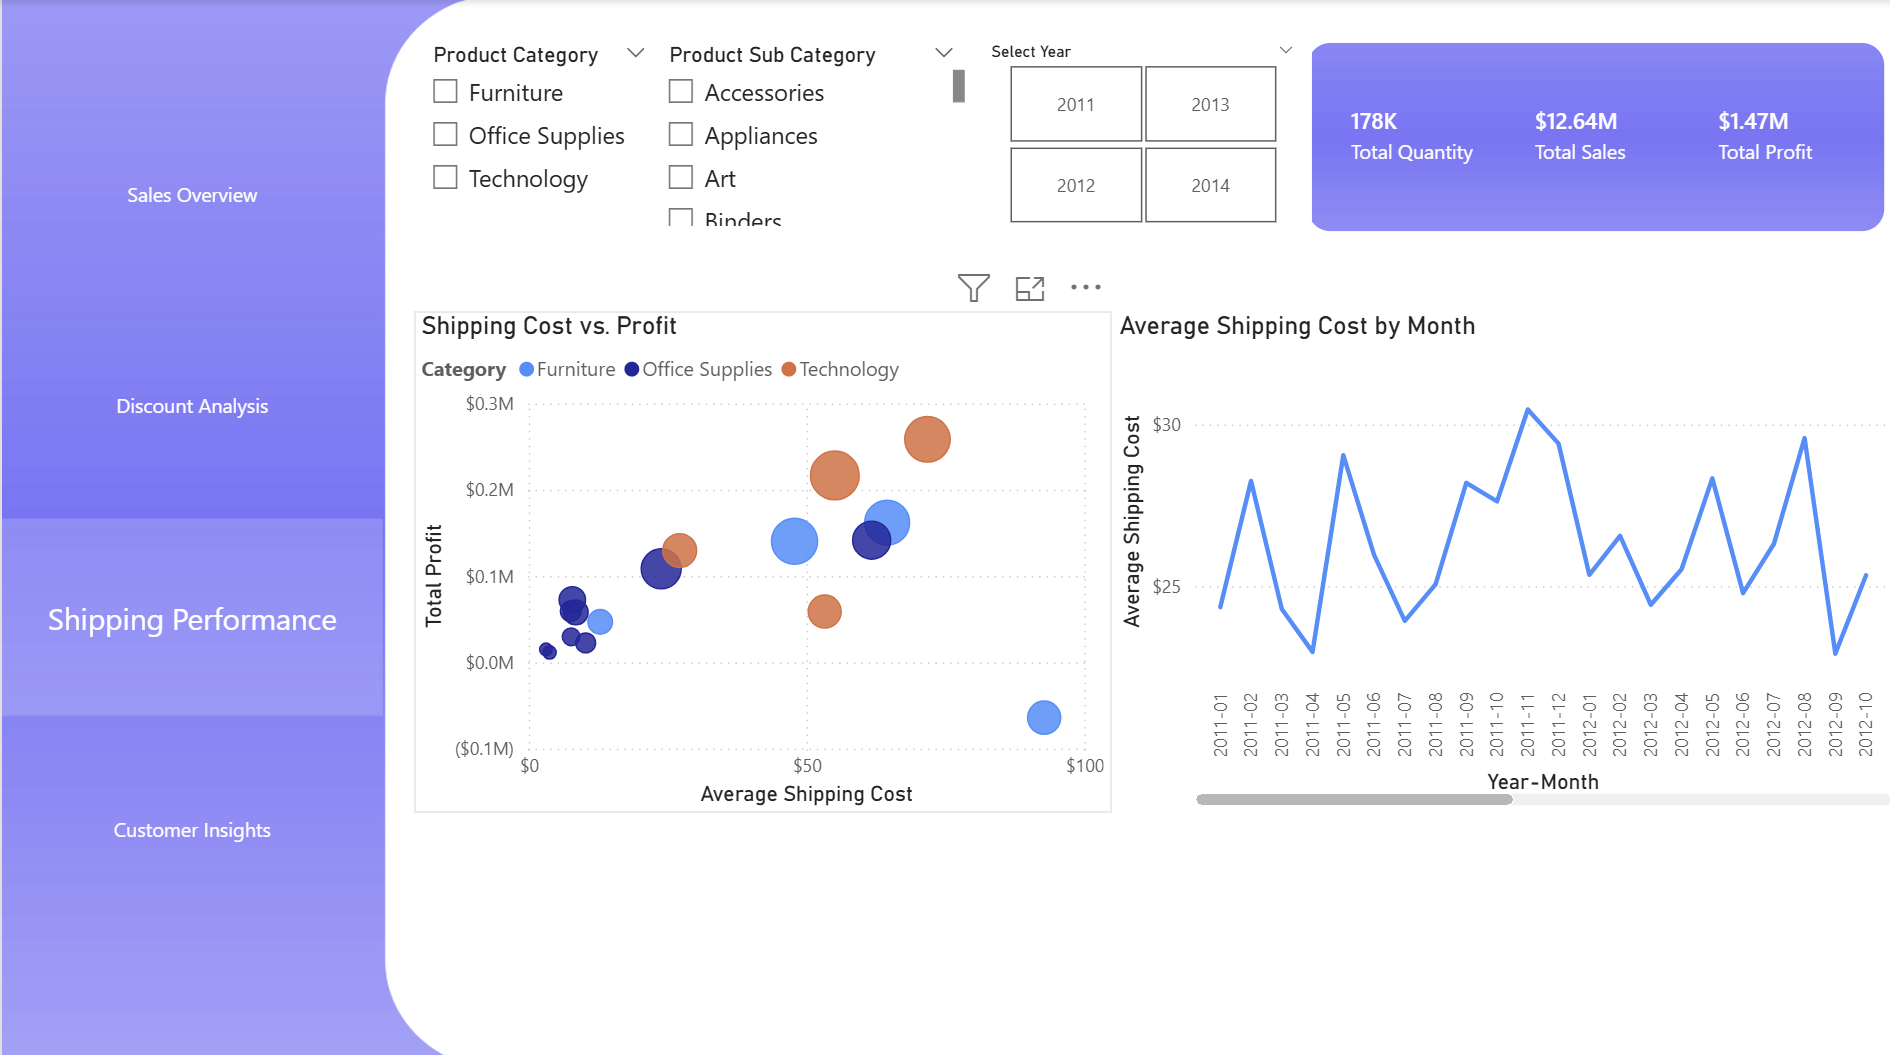

What the dashboard file says about the page in this screenshot:
{"tool":"powerbi","page":{"name":"Shipping Performance","canvas":[1280,720],"ordinal":2},"visuals":[{"type":"image","box":[0,0,315.4,719.6],"z":0},{"type":"image","box":[881.1,30,388.8,126.8],"z":1000},{"type":"pageNavigator","box":[0,64.3,257.2,565],"z":2000},{"type":"slicer","fields":{"Values":["superstore.Category"]},"box":[278.3,24.1,168.7,133.7],"z":3000},{"type":"slicer","fields":{"Values":["superstore.Sub.Category"]},"box":[437.5,24.3,217.4,133.7],"z":4000},{"type":"slicer","title":"Select Year","fields":{"Values":["DateTable.Year"]},"box":[654.9,24.3,229.5,133.7],"z":5000},{"type":"cardVisual","fields":{"Data":["superstore.Total Quantity","superstore.Total Sales","superstore.Total Profit"]},"box":[881.1,28.4,398.9,126.8],"z":6000},{"type":"scatterChart","title":"Shipping Cost vs. Profit","fields":{"X":["superstore.Average Shipping Cost"],"Y":["superstore.Total Profit"],"Category":["superstore.Sub.Category"],"Series":["superstore.Category"],"Size":["superstore.Total Shipping Cost"]},"box":[278.7,210.3,470.6,338.8],"z":7000},{"type":"lineChart","title":"Average Shipping Cost by Month","fields":{"Y":["superstore.Average Shipping Cost"],"Category":["DateTable.Year-Month"]},"box":[749.3,210.3,530.7,338.8],"z":8000}]}

Visuals, with their boxes in screenshot pixels (x1, y1, x2, y2), scaled from the page's 1280x720 canvas onto the 1890x1055 screenshot:
image: (x1=0, y1=0, x2=466, y2=1054)
image: (x1=1301, y1=44, x2=1875, y2=230)
pageNavigator: (x1=0, y1=94, x2=380, y2=922)
slicer - superstore.Category: (x1=411, y1=35, x2=660, y2=231)
slicer - superstore.Sub.Category: (x1=646, y1=36, x2=967, y2=232)
"Select Year" slicer: (x1=967, y1=36, x2=1306, y2=232)
cardVisual - superstore.Total Quantity x superstore.Total Sales: (x1=1301, y1=42, x2=1889, y2=227)
"Shipping Cost vs. Profit" scatterChart: (x1=412, y1=308, x2=1106, y2=805)
"Average Shipping Cost by Month" lineChart: (x1=1106, y1=308, x2=1889, y2=805)
